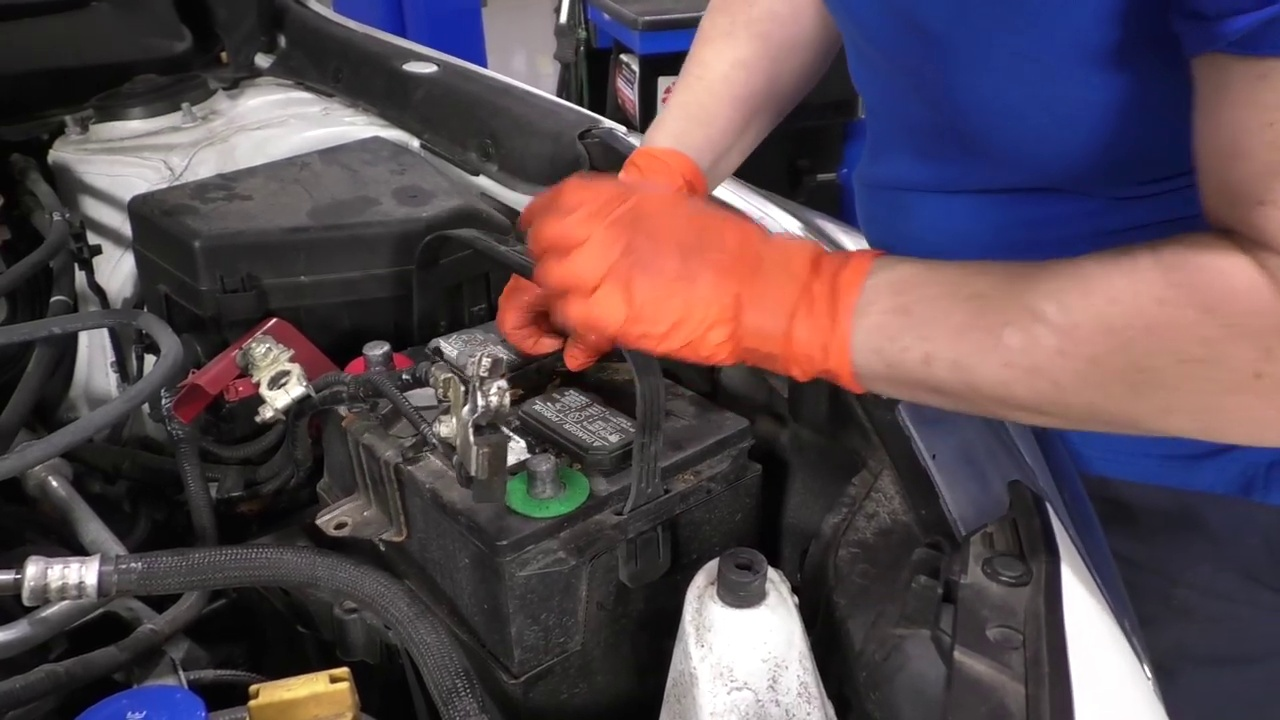battery: (331, 307, 755, 532)
neg_disconnected: (464, 420, 604, 534)
pos_disconnected: (236, 311, 425, 432)
